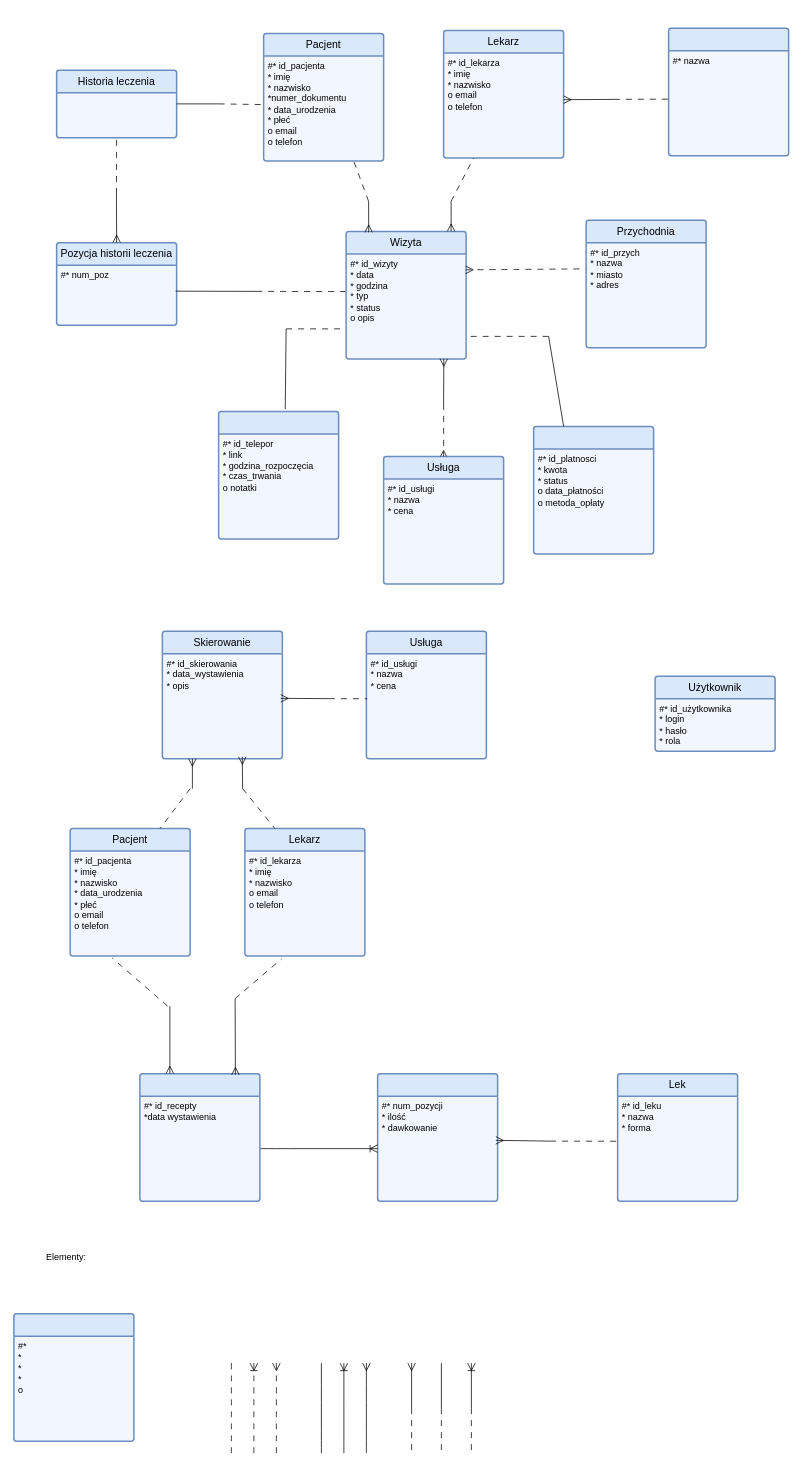
The diagram is 802 pixels wide and 1467 high, and some of its shapes have lost their labels. Each missing label, with the box of its shape:
Nazwa: (13, 1312, 134, 1442)
Pozycja recepty: (376, 1072, 498, 1202)
Płatność: (532, 425, 654, 554)
Recepta: (139, 1072, 260, 1202)
Specjalizacja: (668, 27, 789, 156)
Teleporada: (218, 410, 339, 539)
